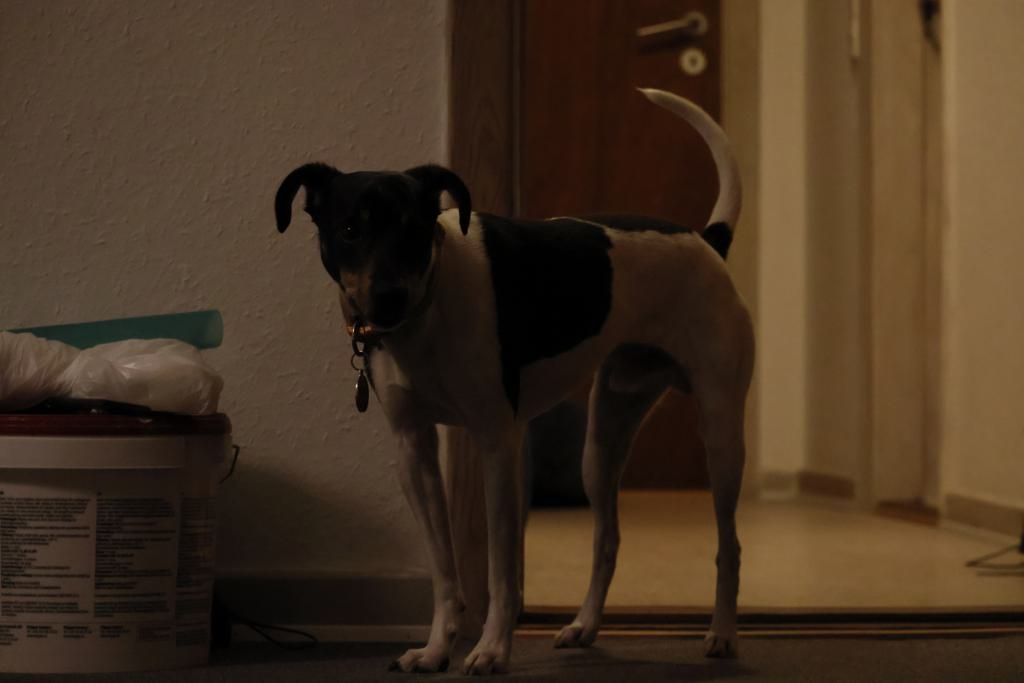Dog: (260, 83, 760, 679)
